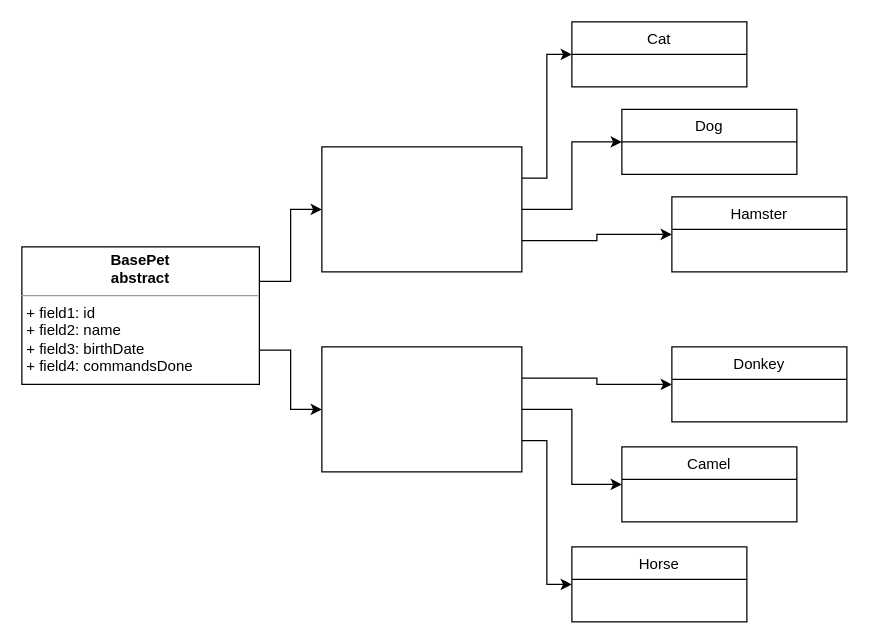
This 869x644 diagram has some shape labels left out. Here are the shapes that lost their labels. From the top down, the box of each, then its label:
(321, 146, 522, 272): HomePets abstract + field1: type + field2: kindOfPet + field3: breedOfPet
(321, 346, 522, 472): PackPets abstract + field1: type + field2: kindOfPet + field3: breedOfPet
